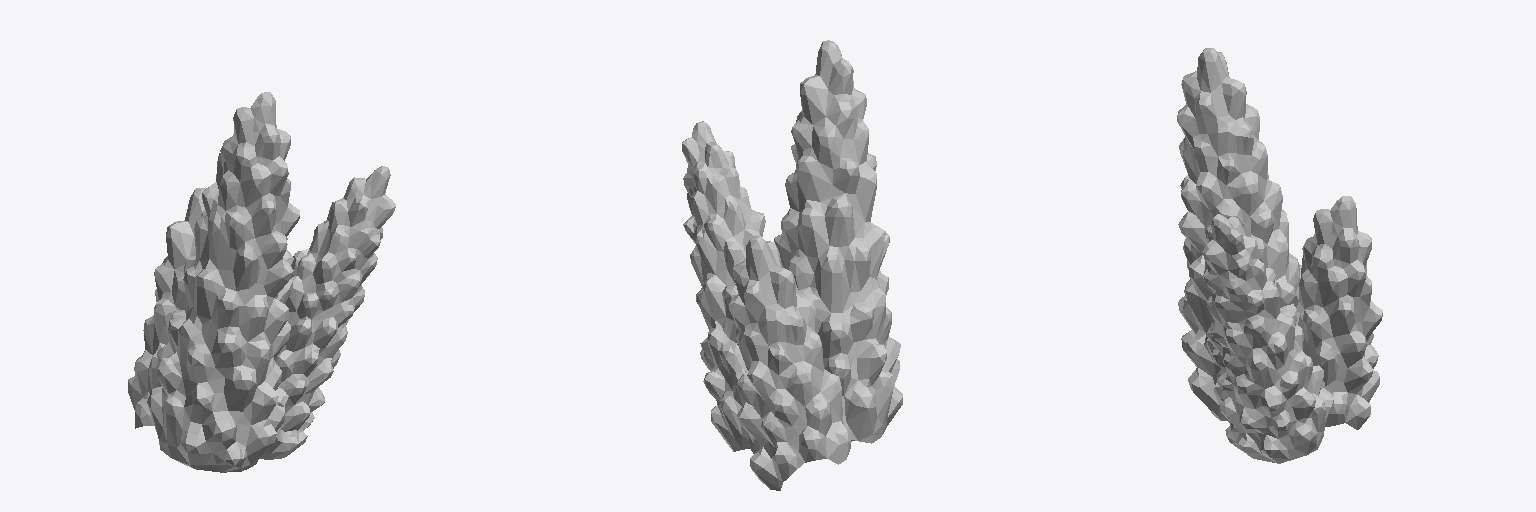
Rendered from coral.obj.
3 renders of one model, left to right at view 1: azimuth 30°, elevation 25°; view 2: azimuth 150°, elevation 25°; view 3: azimuth 270°, elevation 25°, orthographic.
Visible parts, largest first — view 1: Coral_Blue; view 2: Coral_Blue; view 3: Coral_Blue.
Boxes of the visible parts, x1,y1,x2,y2 form: Coral_Blue: [128, 92, 395, 472]; Coral_Blue: [682, 40, 902, 490]; Coral_Blue: [1177, 48, 1382, 463].
Bounding box in the file's own units: 5.17 × 8.87 × 4.25.